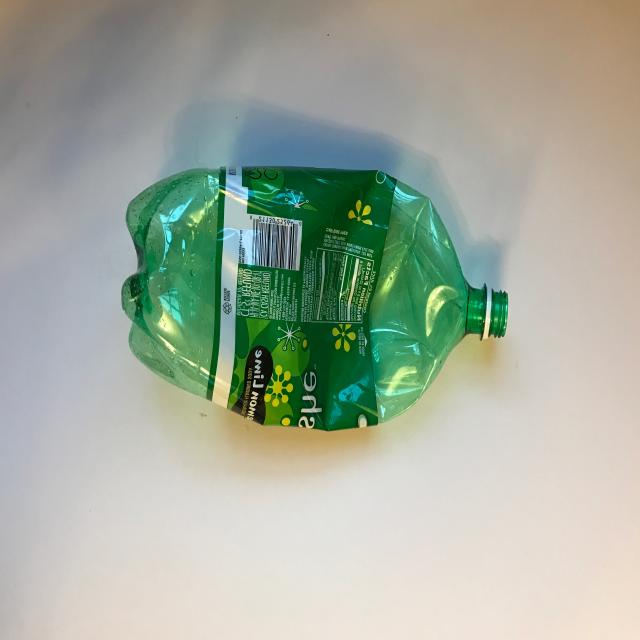plastic: (121, 164, 508, 432)
